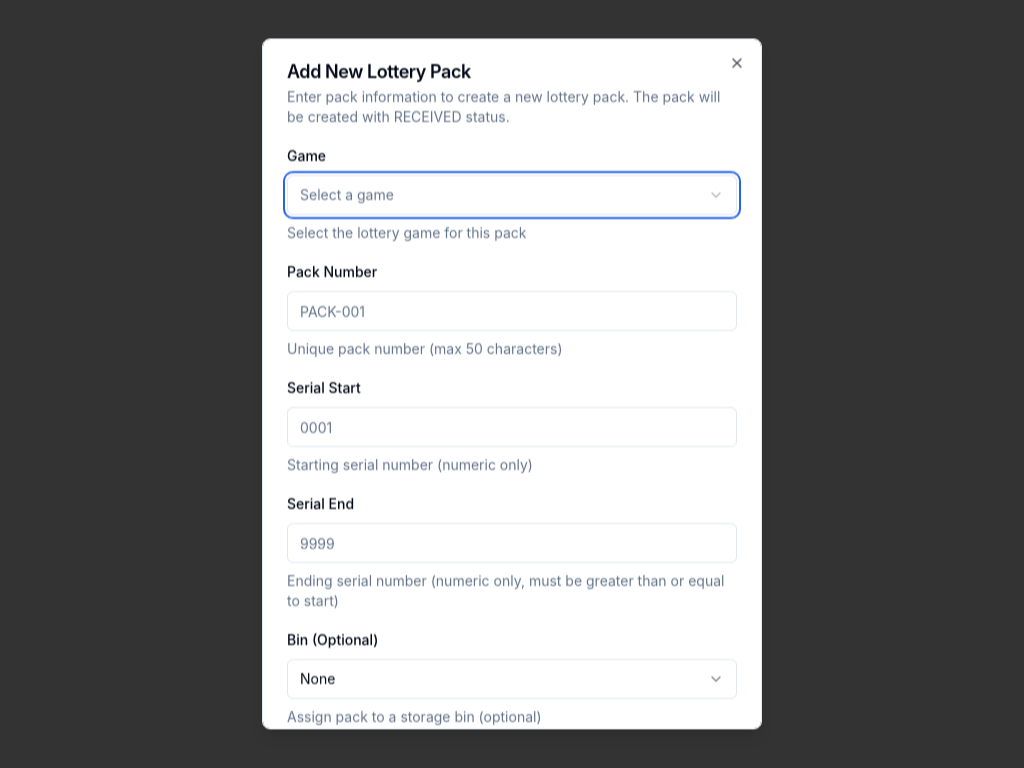
Scenario: 6.10.1-COMPONENT: AddLotteryDialog › 6.10.1-COMPONENT-016: [P1] should validate serial range (serial_end >= serial_start) (AC #4)
Type "3000" into the field with test id "serial-start-input" at (512, 427), box [287, 407, 737, 447]
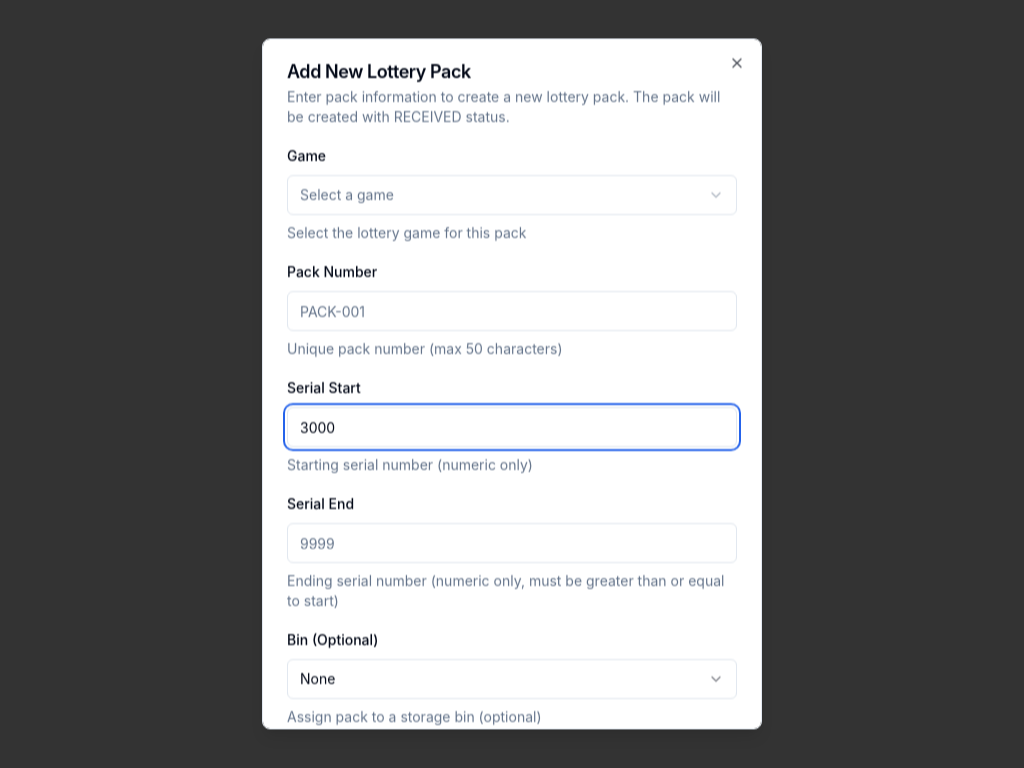
Type "2000" into the field with test id "serial-end-input" at (512, 543), box [287, 523, 737, 563]
(page scrolled)
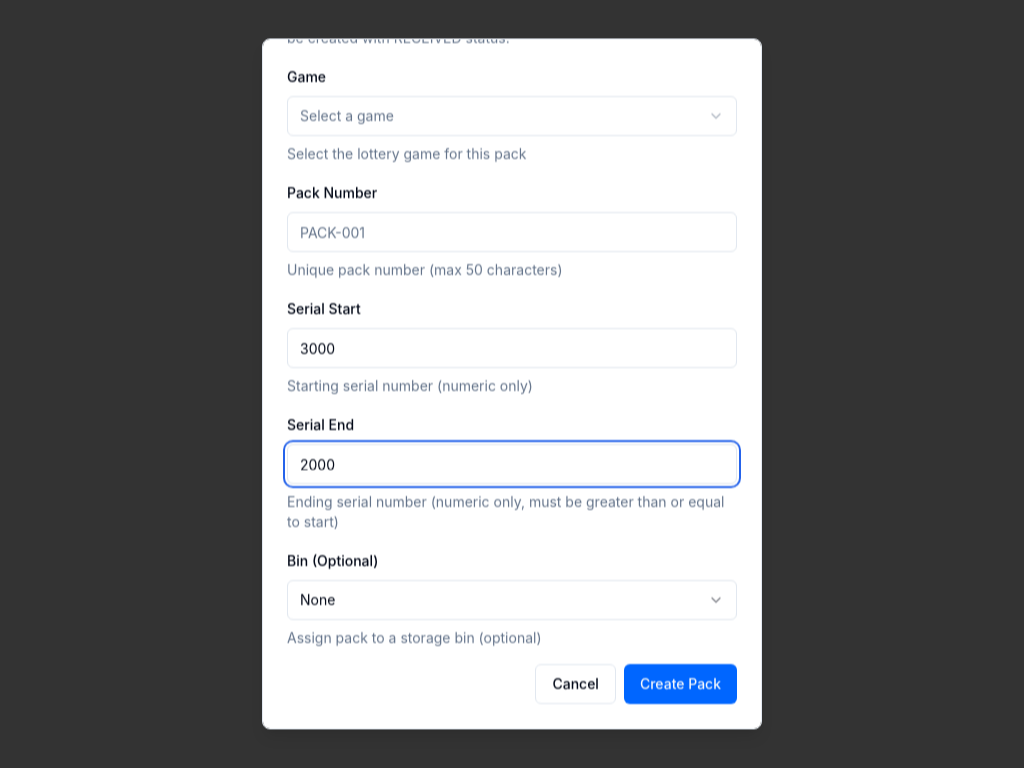
Click the button "Create Pack" at (680, 684), box [624, 664, 737, 704]
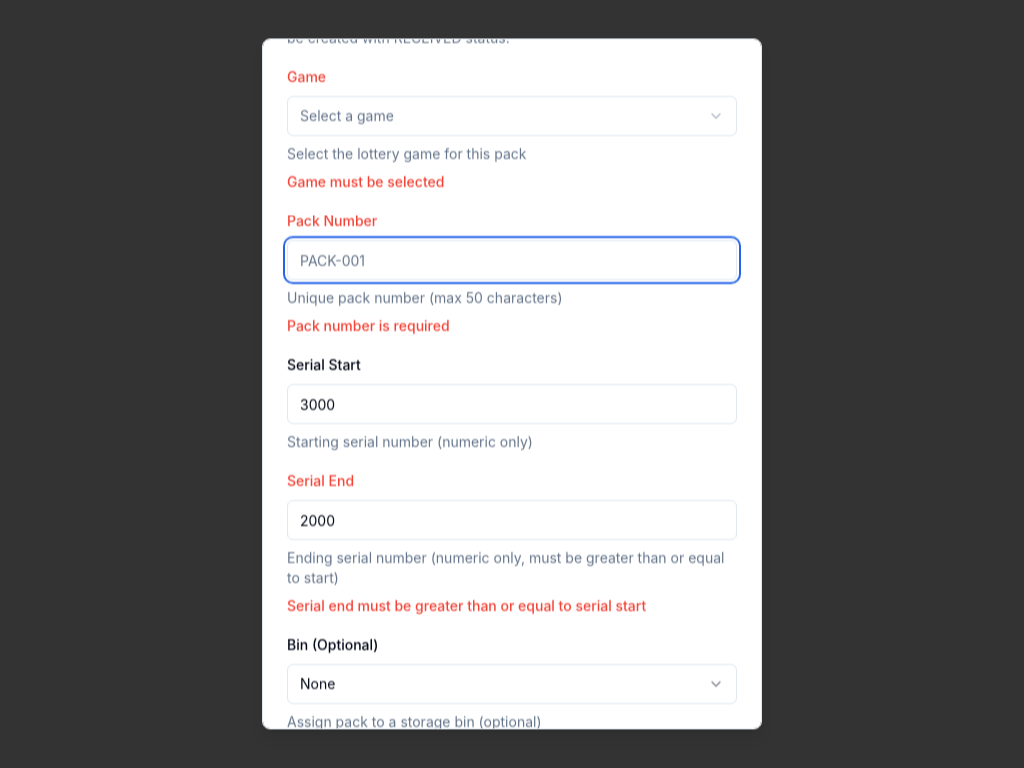
expect the text "Serial end must be greater than or equal to serial start" is shown: met, box [287, 597, 646, 614]
